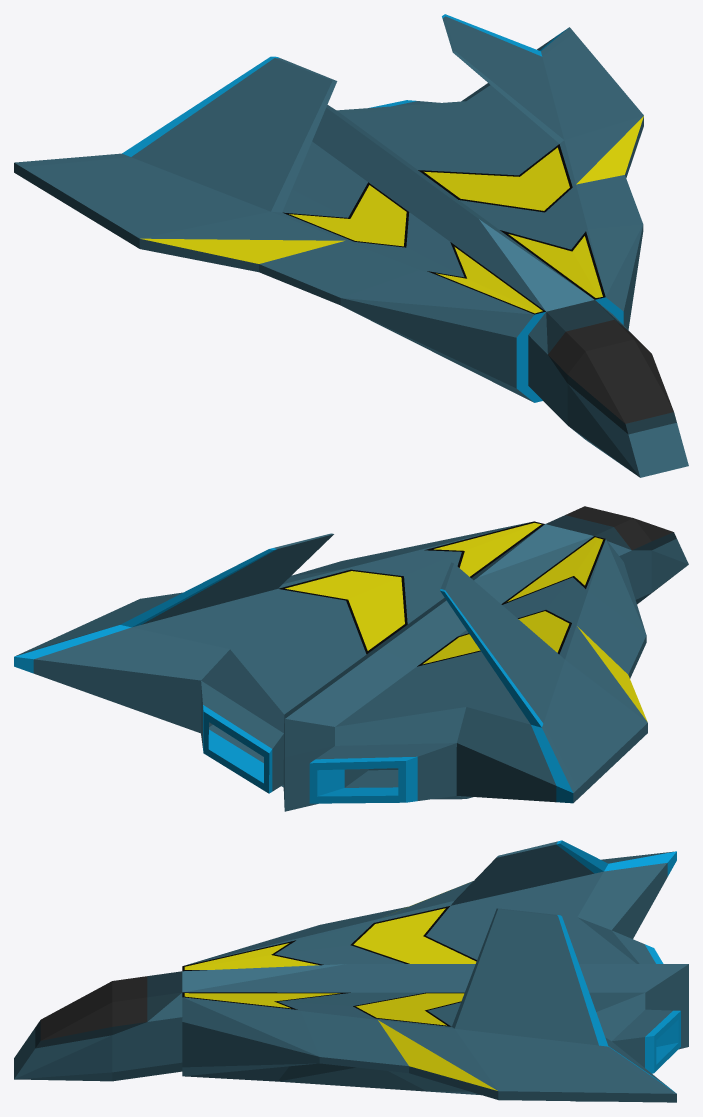
File: PlayerShip.fbx
The picture shows the model from 3 angles, top to bottom: view 1: azimuth 30°, elevation 25°; view 2: azimuth 150°, elevation 25°; view 3: azimuth 270°, elevation 25°; orthographic projection. The views are drawn at different scales.
Visible parts, largest first — view 1: PlayerShip; view 2: PlayerShip; view 3: PlayerShip.
Part boxes in pixels (box(x1,y1,x2,y2)): PlayerShip: box(14, 14, 688, 477); PlayerShip: box(14, 506, 688, 811); PlayerShip: box(14, 840, 688, 1102).
Bounding box in the file's own units: 124 × 45.84 × 146.
